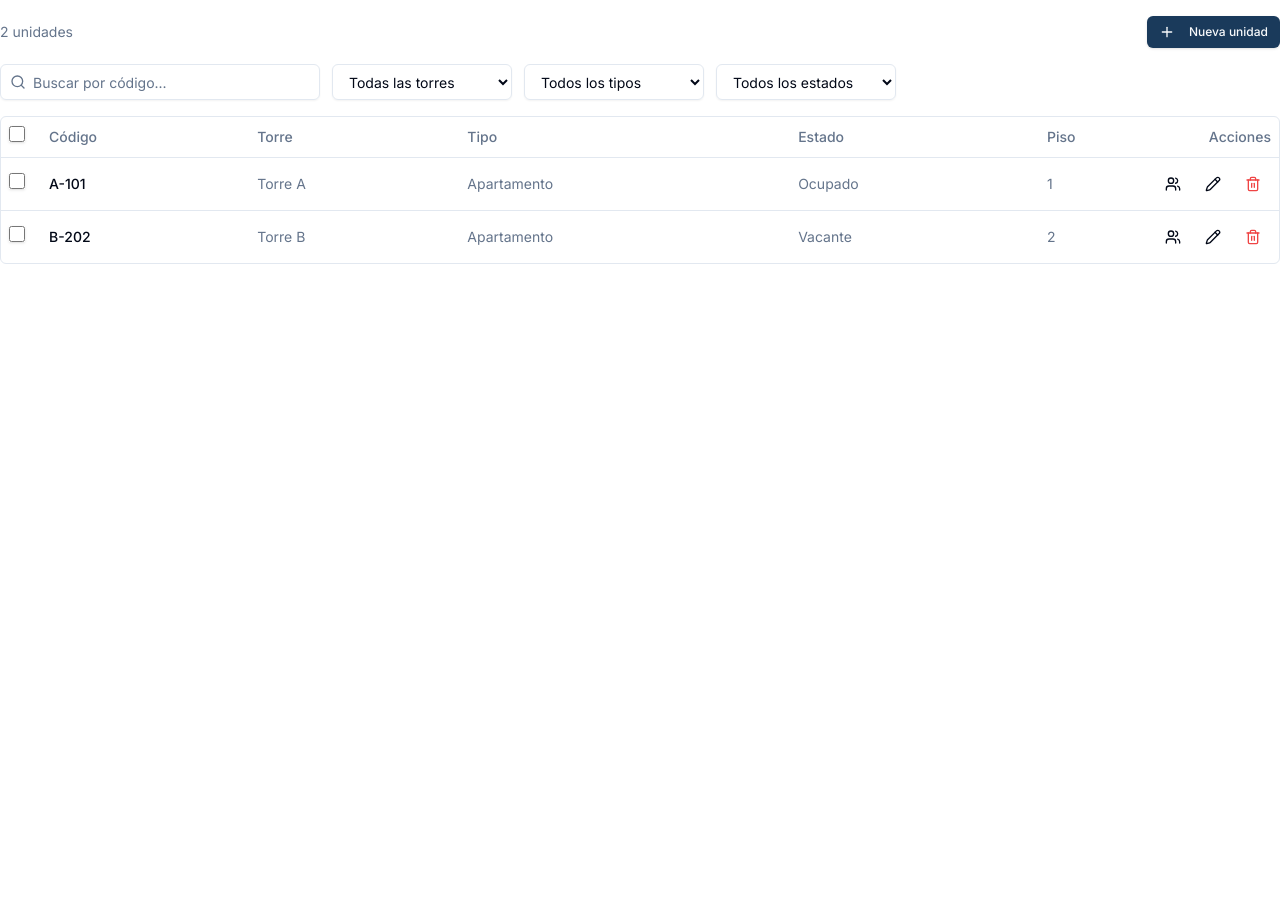
Test: UnidadesTab › acción en lote: cambia el estado de las unidades seleccionadas
Click the checkbox named "Seleccionar A-101". click: (17, 181)
box: [9,173,25,189]
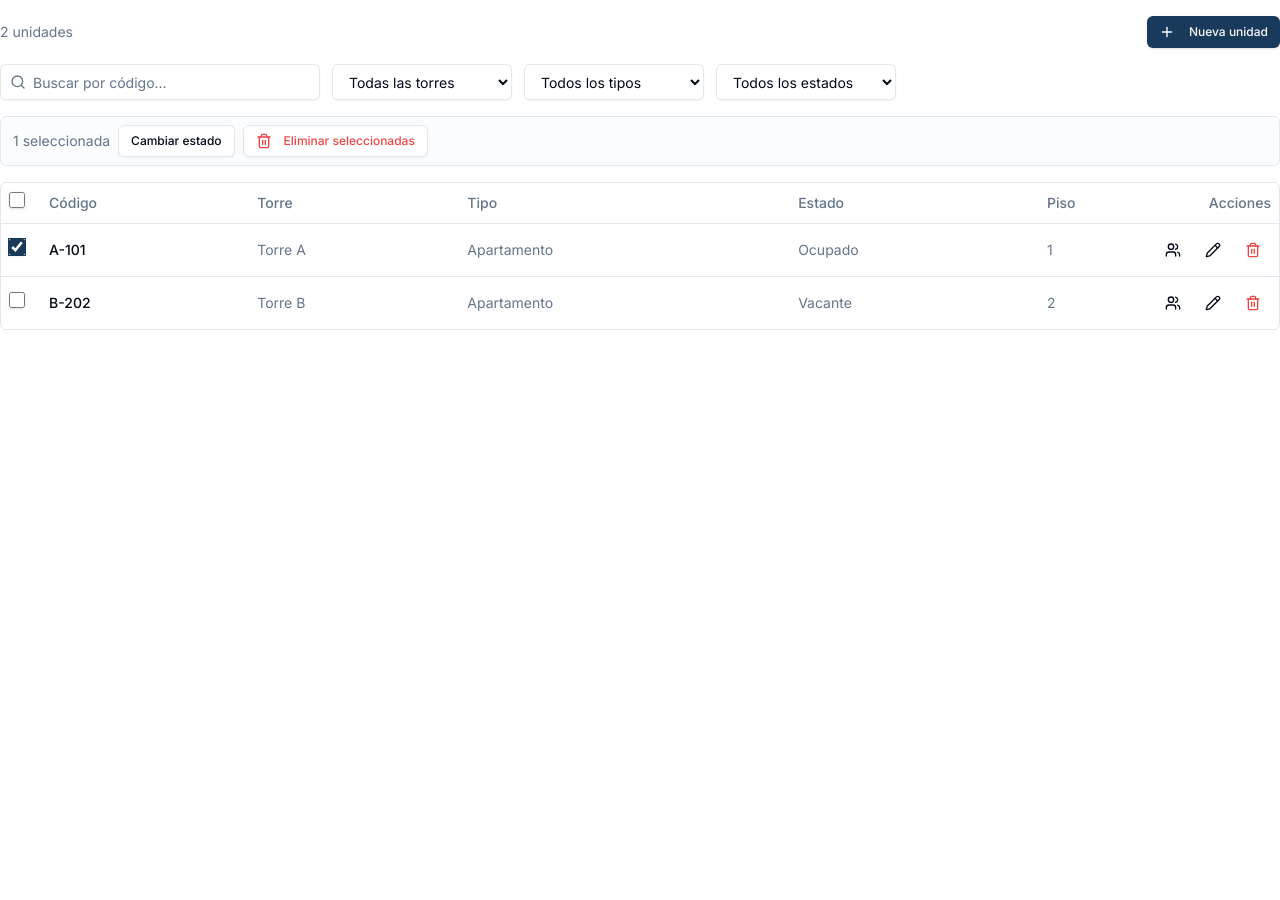
Click the checkbox named "Seleccionar B-202". click: (17, 300)
box: [9,292,25,308]
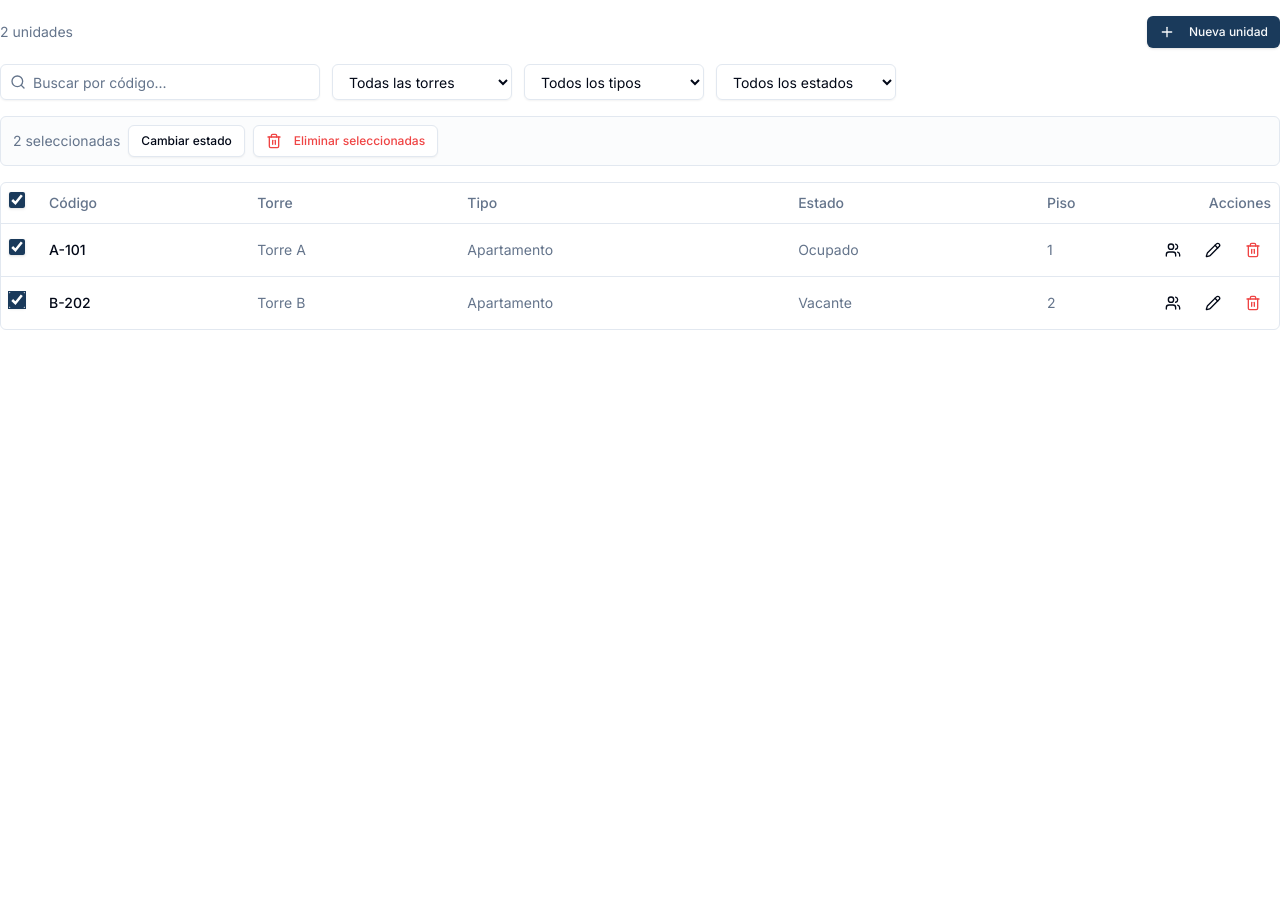
expect the text "2 seleccionadas" is shown: met, box [13,131,120,151]
Click the button "Cambiar estado". click: (187, 141)
box: [128,125,245,157]
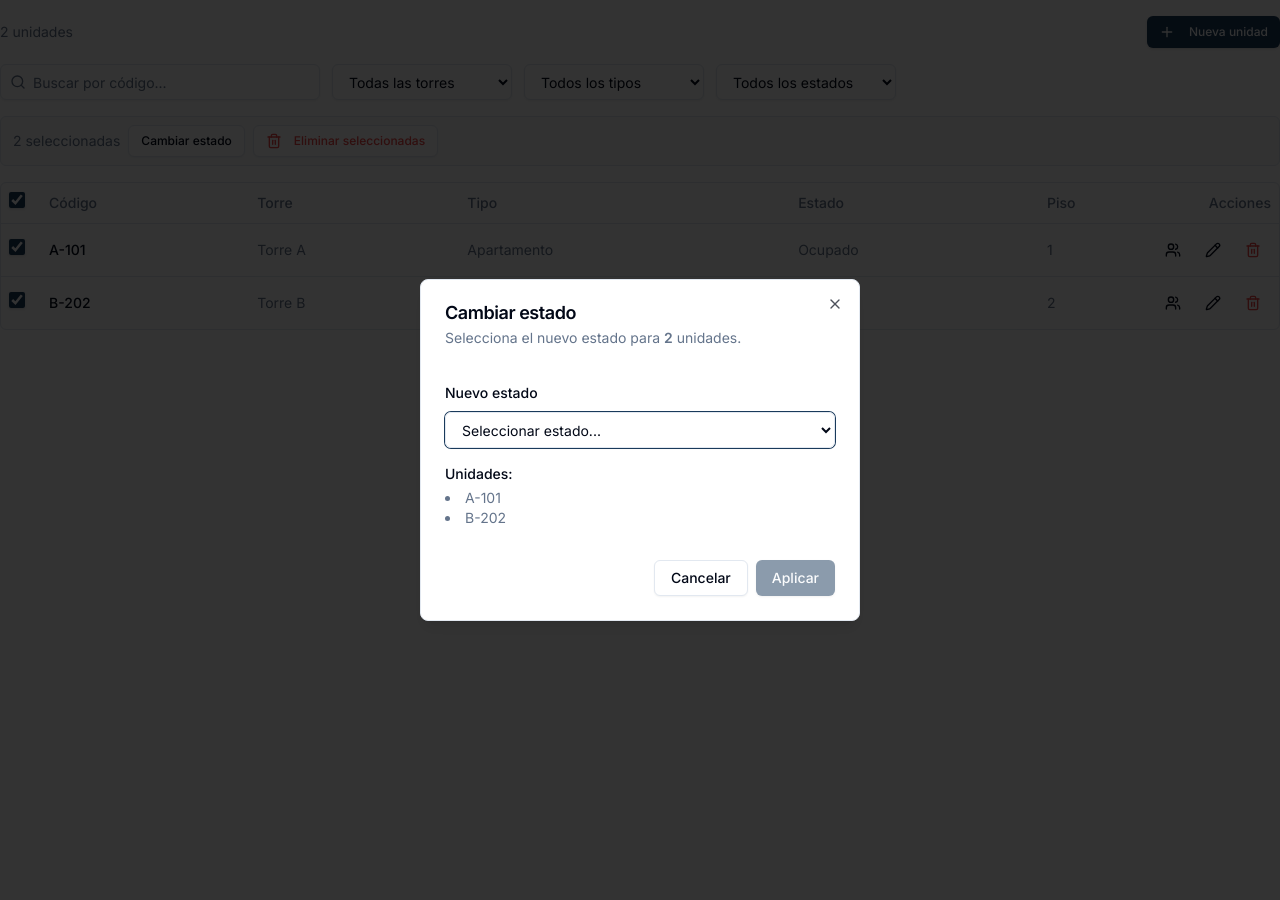
Select "Vacante" in the dropdown. click: (640, 430)
box: [445,412,835,448]
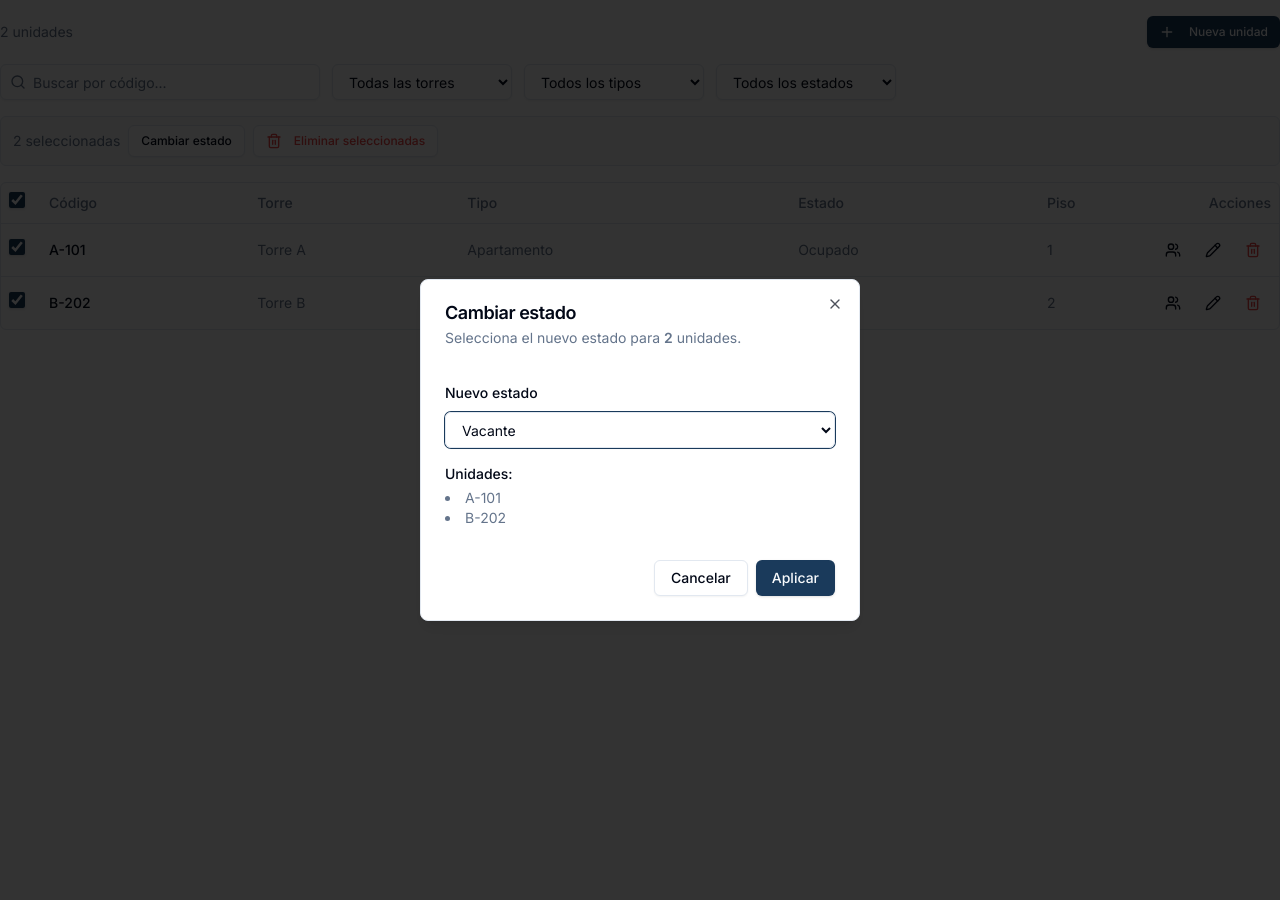
Click the button "Aplicar". click: (795, 578)
box: [756,560,835,596]
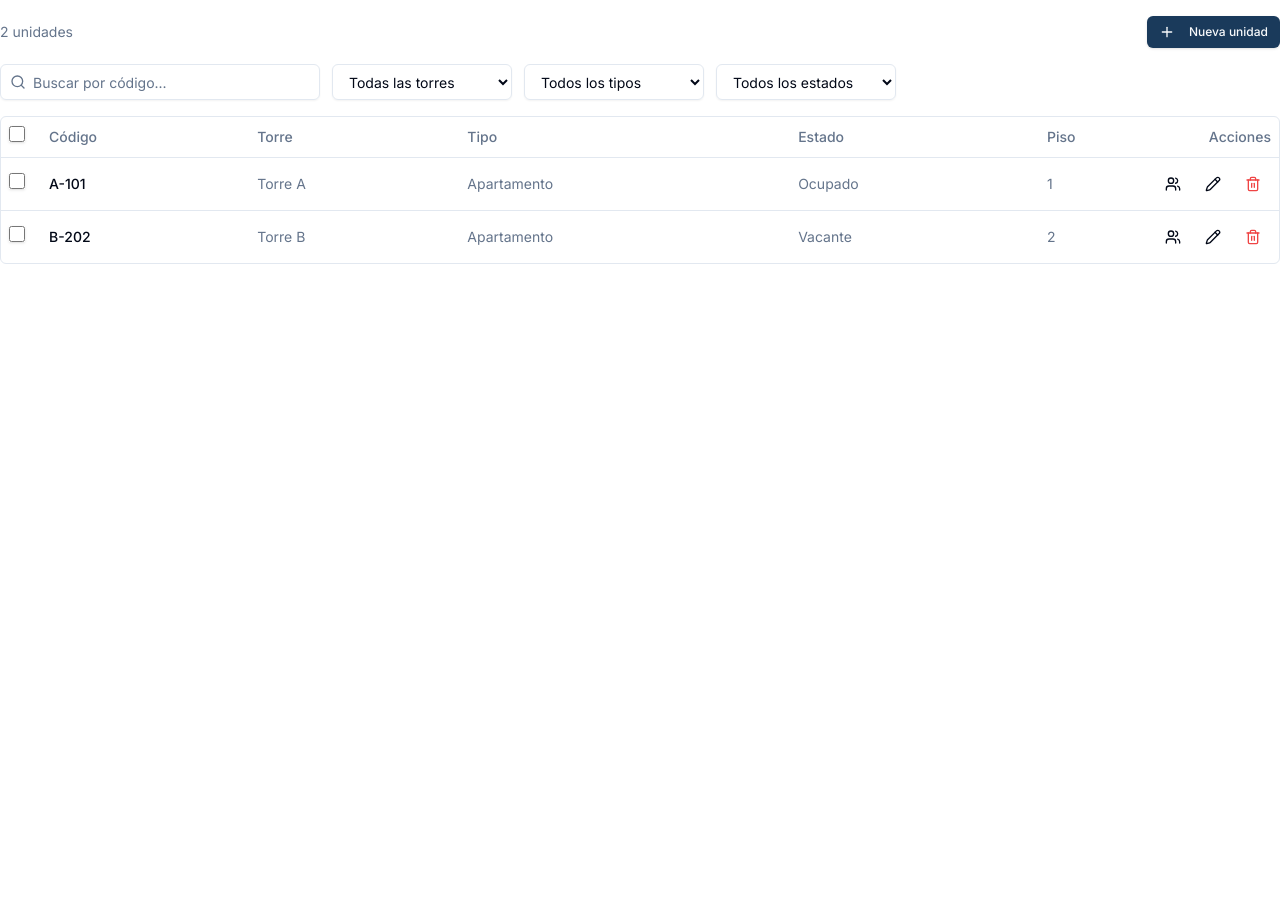
expect the text "2 seleccionadas" is gone: met
